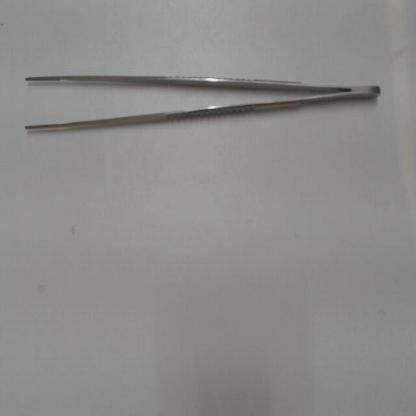DeBakey Dissector: (10, 58, 401, 151)
